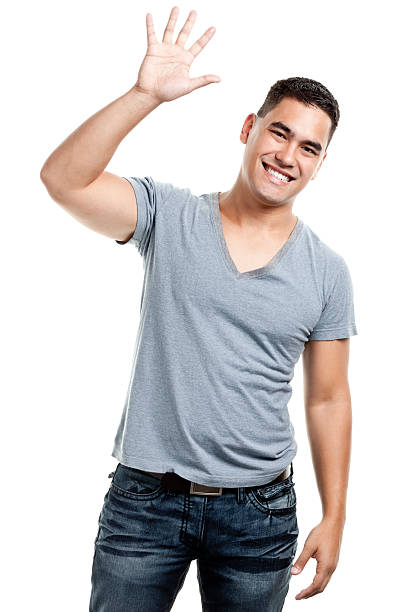open_hand: (138, 4, 231, 111)
